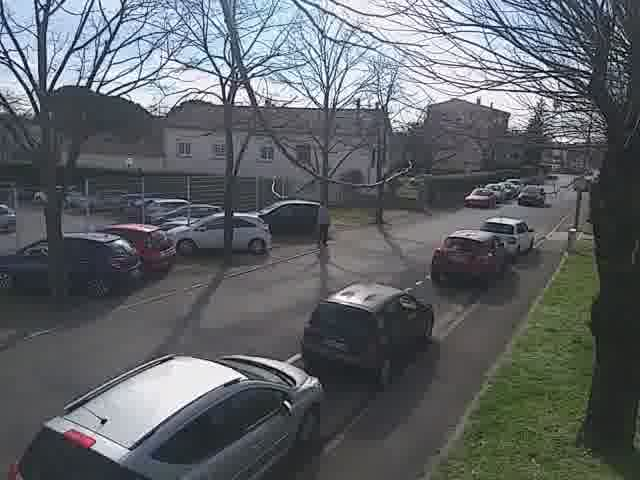persona: (312, 196, 334, 254)
